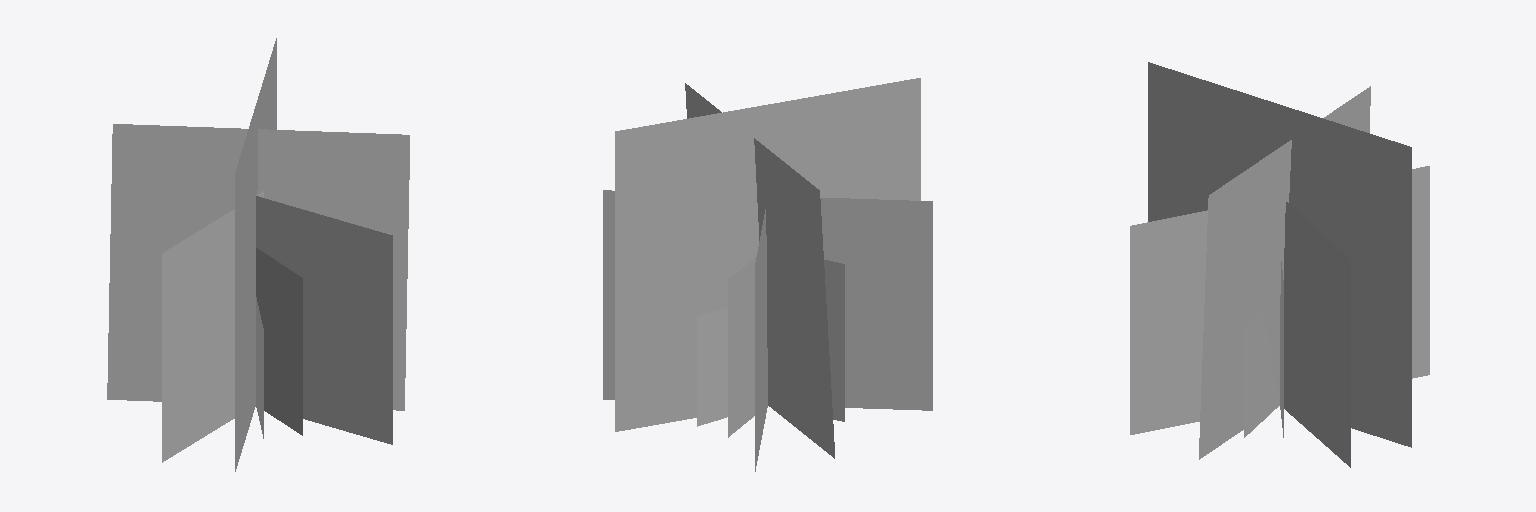
Rendered from TALL_GRASS_2.obj.
3 views of the same model, side by side, from view 1: azimuth 30°, elevation 25°; view 2: azimuth 150°, elevation 25°; view 3: azimuth 270°, elevation 25° (orthographic).
Visible parts, largest first — view 1: Plane.019; view 2: Plane.019; view 3: Plane.019.
Boxes of the visible parts, box(x1,y1,x2,y2) form: Plane.019: box(107, 38, 409, 471); Plane.019: box(603, 78, 932, 471); Plane.019: box(1130, 62, 1429, 467).
Bounding box in the file's own units: 0.8816 × 0.9834 × 0.8816.